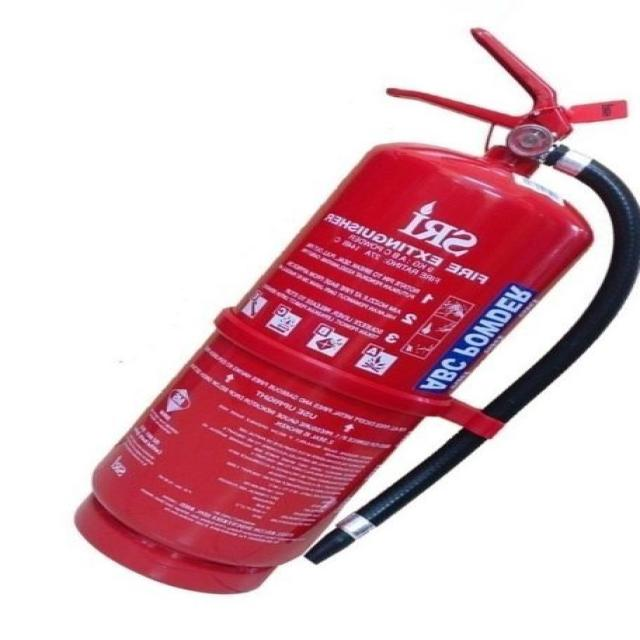fire_extinguisher: (63, 24, 639, 598)
